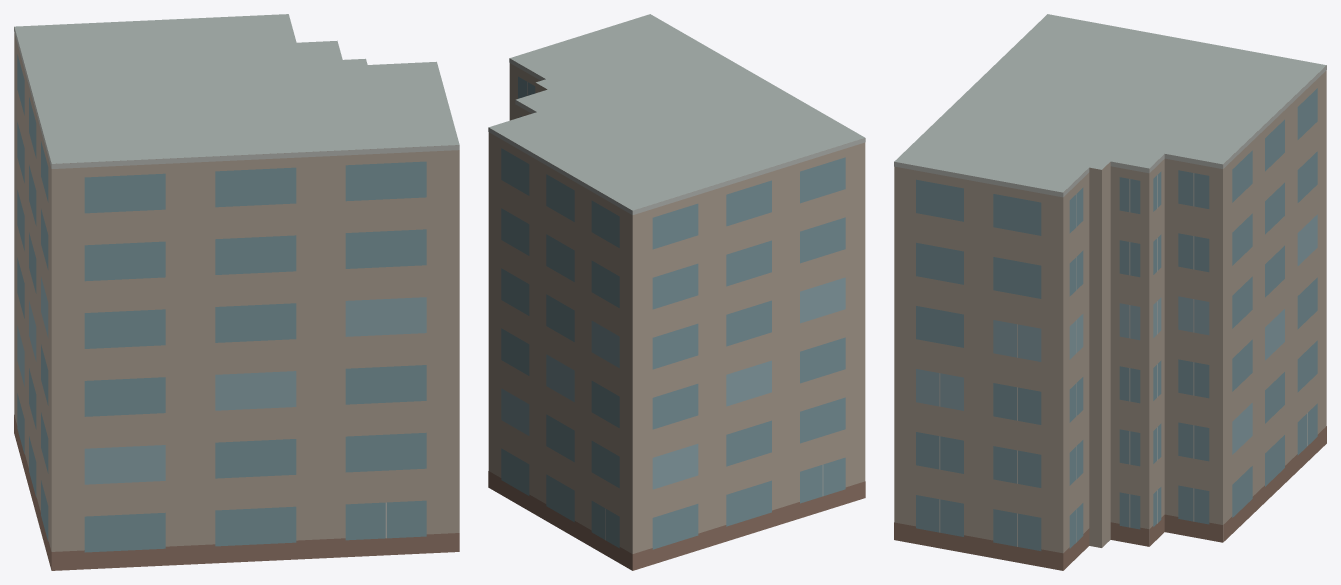
The model's file is survey-upis-32752661.glb.
3 renders of one model, left to right at view 1: azimuth 30°, elevation 25°; view 2: azimuth 150°, elevation 25°; view 3: azimuth 270°, elevation 25°, orthographic. The views are drawn at different scales.
Visible parts, largest first — view 1: survey-upis-32752661.tmp; view 2: survey-upis-32752661.tmp; view 3: survey-upis-32752661.tmp.
Part boxes in pixels (bbox=[...]): survey-upis-32752661.tmp: bbox=[14, 14, 459, 570]; survey-upis-32752661.tmp: bbox=[488, 14, 865, 570]; survey-upis-32752661.tmp: bbox=[894, 14, 1326, 570].
Size of the model in its own units: 19.48 by 19.23 by 19.94.
